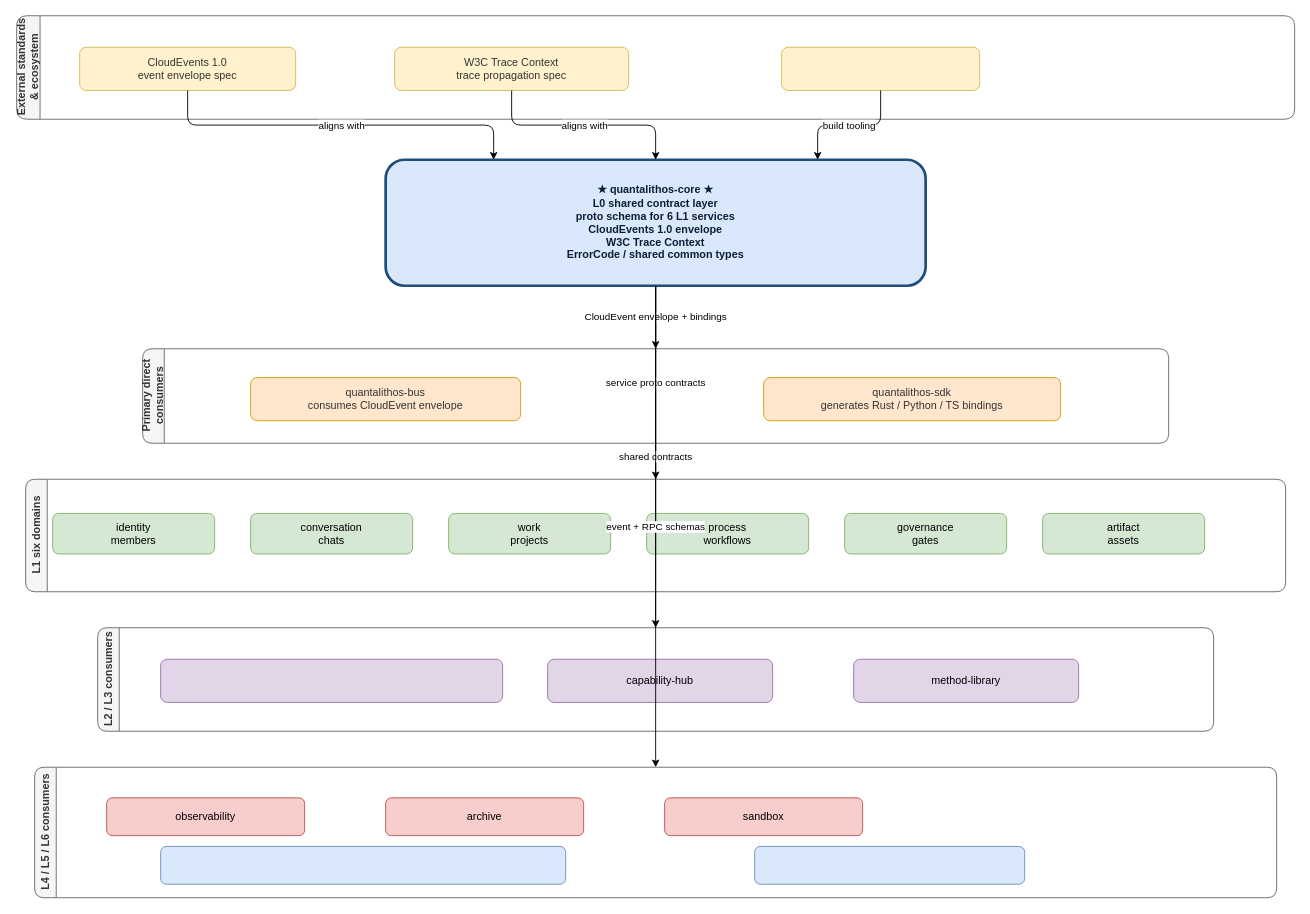
Some shapes in this 1310 by 914 pixel diagram are drawn without their labels. The centre of each missing label's shape, as x and y in pixels:
"bridges / marketplace" goes at point (889, 865).
"buf.build build tooling" goes at point (880, 68).
"chat / console / runner / sync / website" goes at point (363, 865).
"member runtime / member-service / tools" goes at point (331, 680).
